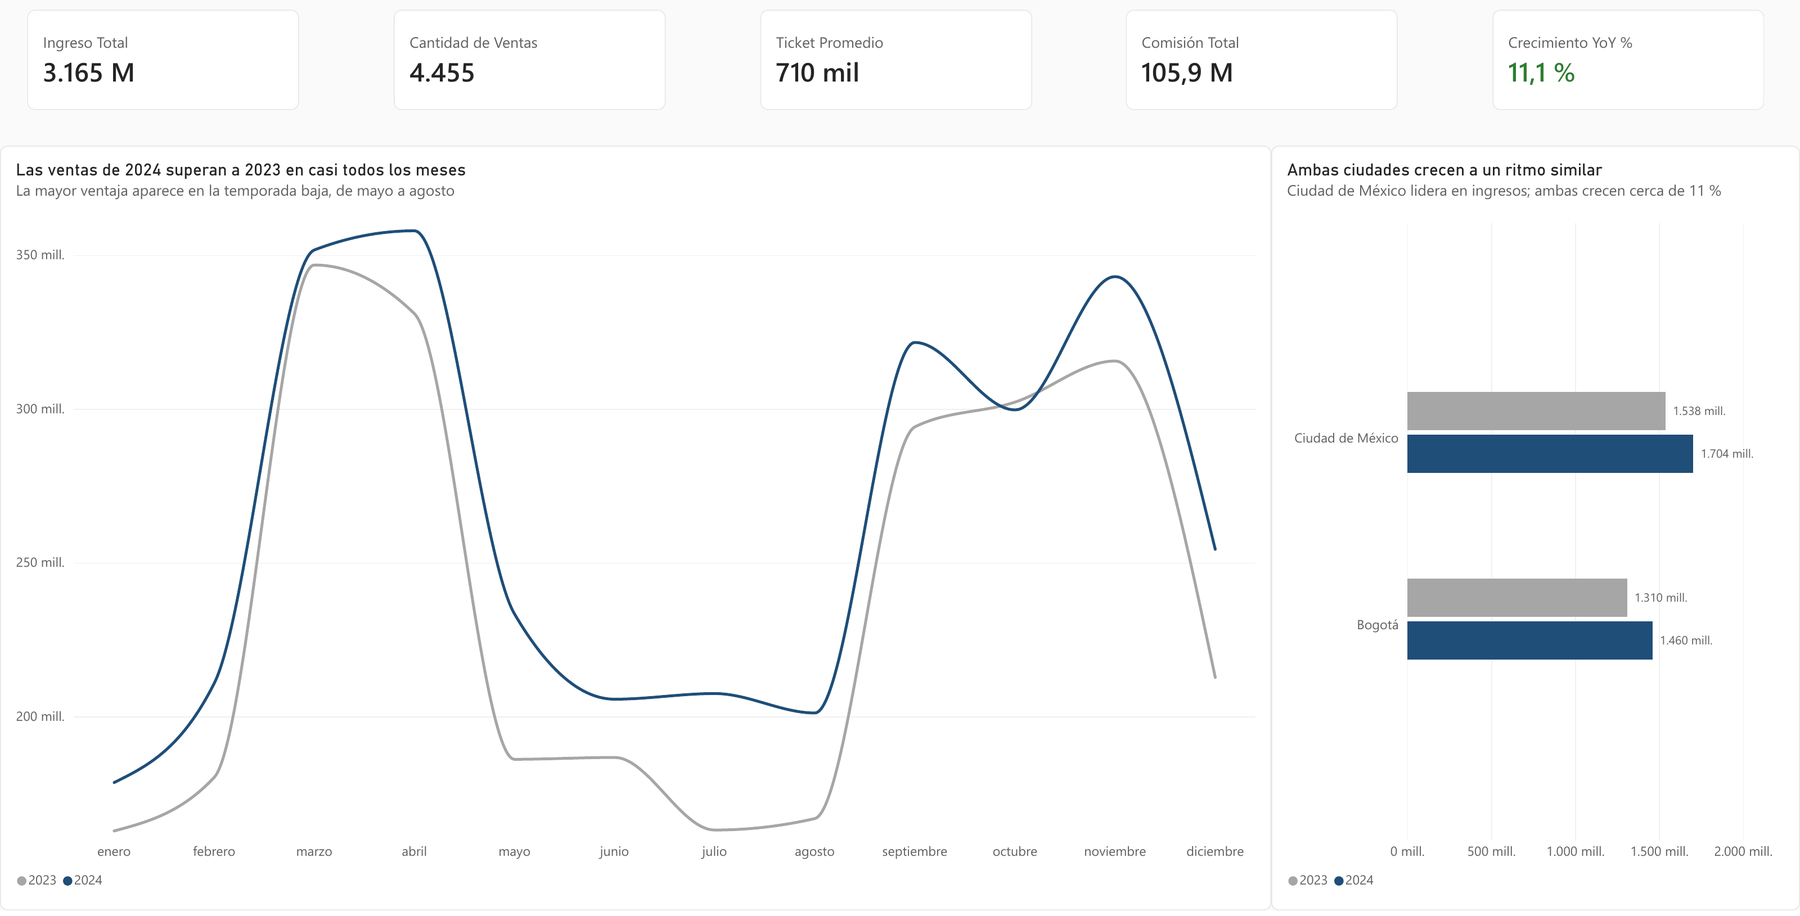

The page's visual inventory and layout, read from the dashboard file:
{"tool":"powerbi","page":{"name":"Overview","canvas":[1920,1080],"ordinal":0},"visuals":[{"type":"textbox","box":[10.1,0,643.8,52.2],"z":0},{"type":"slicer","fields":{"Values":["dim_fecha.Año"]},"box":[790.2,0,1129.5,64.6],"z":1000},{"type":"cardVisual","fields":{"Data":["hecho_ventas_propiedades.Ingreso Total Tarjeta"]},"box":[29.4,118.8,290.8,107.2],"z":2000},{"type":"cardVisual","fields":{"Data":["hecho_ventas_propiedades.Ventas Tarjeta"]},"box":[420.1,118.8,290.8,107.2],"z":3000},{"type":"cardVisual","fields":{"Data":["hecho_ventas_propiedades.Ticket Promedio Tarjeta"]},"box":[810.7,118.8,290.8,107.2],"z":4000},{"type":"cardVisual","fields":{"Data":["hecho_ventas_propiedades.Comisión Total Tarjeta"]},"box":[1201.4,118.8,290.8,107.2],"z":5000},{"type":"cardVisual","fields":{"Data":["hecho_ventas_propiedades.Crecimiento YoY %"]},"box":[1592.1,118.8,290.8,107.2],"z":6000},{"type":"lineChart","title":"Las ventas de 2024 superan a 2023 en casi todos los meses","fields":{"Category":["dim_fecha.Mes"],"Series":["dim_fecha.Año"],"Y":["hecho_ventas_propiedades.Ingreso Total"]},"box":[0,264.4,1355.7,815.2],"z":6001},{"type":"clusteredBarChart","title":"Ambas ciudades crecen a un ritmo similar","fields":{"Category":["dim_propiedades.ciudad"],"Series":["dim_fecha.Año"],"Y":["hecho_ventas_propiedades.Ingreso Total"]},"box":[1355.7,264.4,564,815.2],"z":6002}]}

Visuals, with their boxes on the page's 1920x1080 design canvas (x1, y1, x2, y2). These are canvas units, not pixel positions in the 1800x916 screenshot, which may show the page scaled, cropped or inside an application window:
textbox: (10, 0, 654, 52)
slicer - dim_fecha.Año: (790, 0, 1920, 65)
cardVisual - hecho_ventas_propiedades.Ingreso Total Tarjeta: (29, 119, 320, 226)
cardVisual - hecho_ventas_propiedades.Ventas Tarjeta: (420, 119, 711, 226)
cardVisual - hecho_ventas_propiedades.Ticket Promedio Tarjeta: (811, 119, 1102, 226)
cardVisual - hecho_ventas_propiedades.Comisión Total Tarjeta: (1201, 119, 1492, 226)
cardVisual - hecho_ventas_propiedades.Crecimiento YoY %: (1592, 119, 1883, 226)
"Las ventas de 2024 superan a 2023 en casi todos los meses" lineChart: (0, 264, 1356, 1080)
"Ambas ciudades crecen a un ritmo similar" clusteredBarChart: (1356, 264, 1920, 1080)
